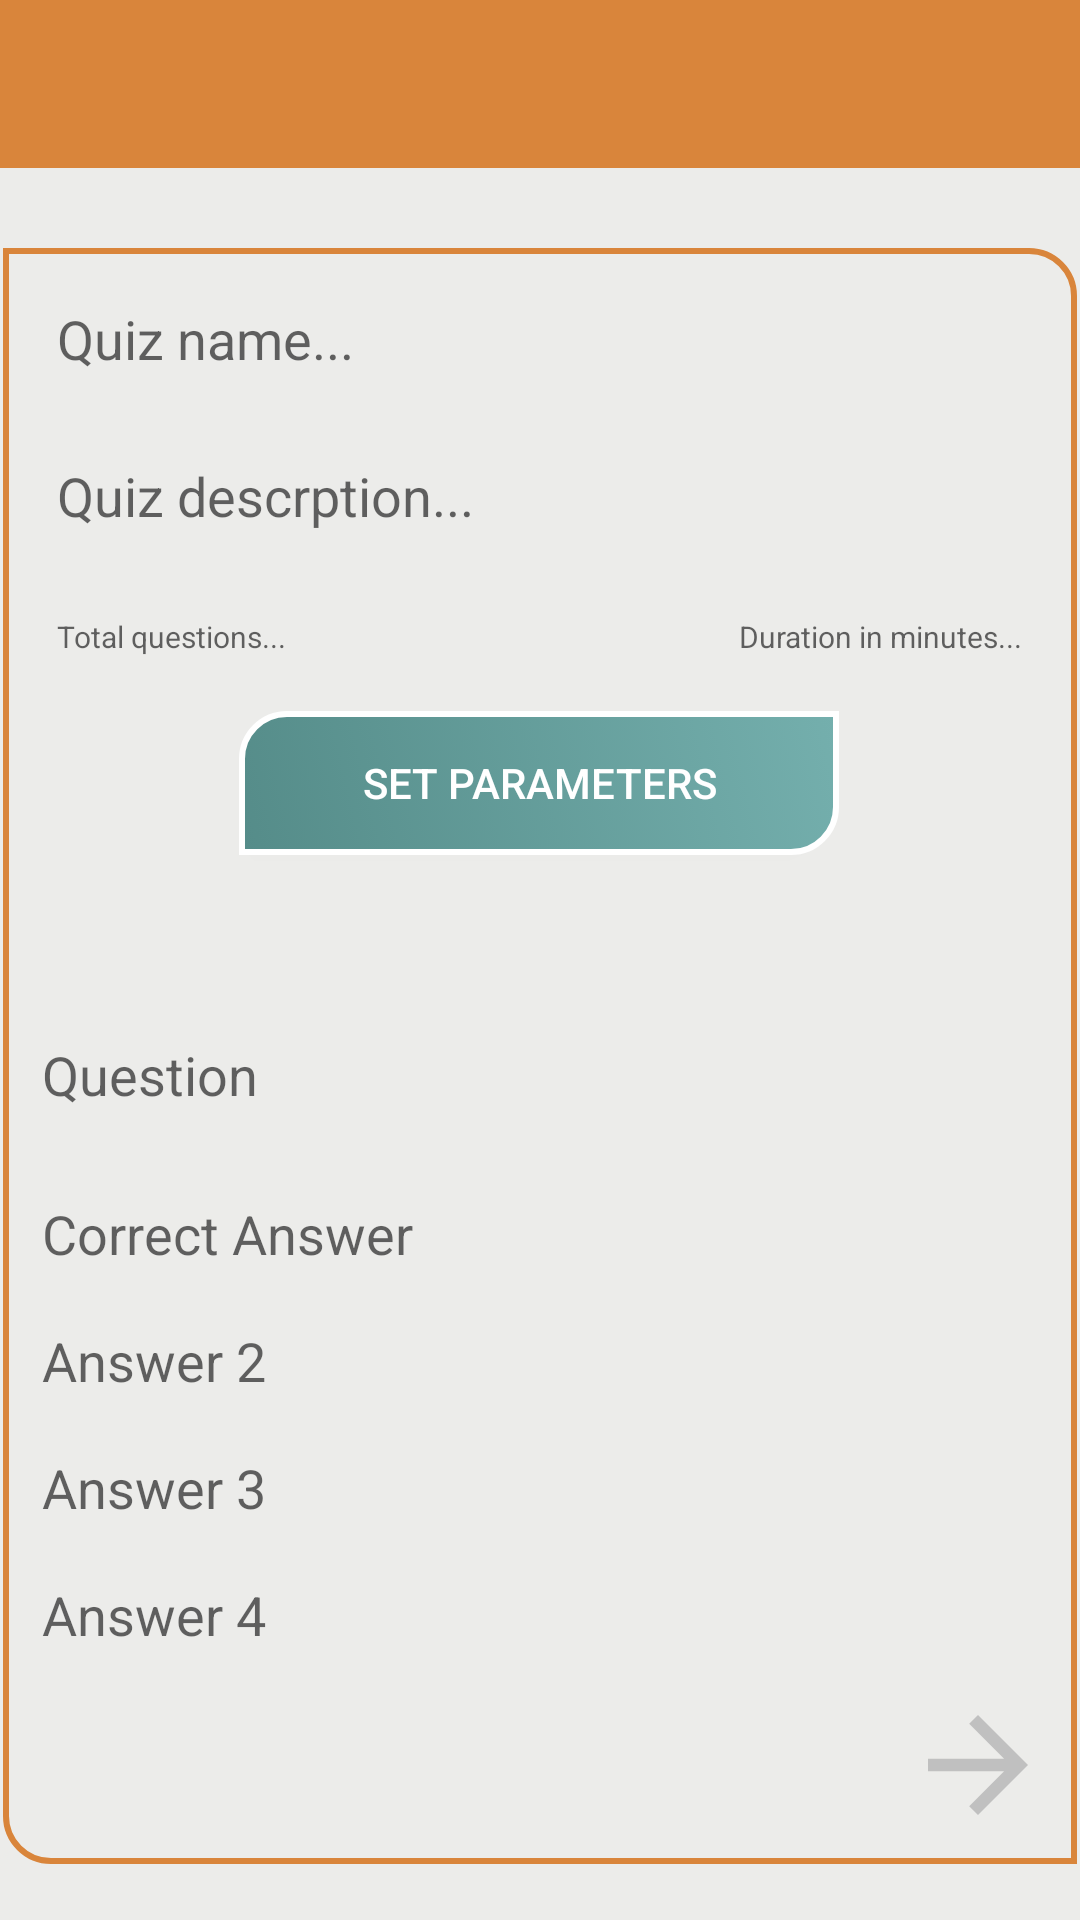

Where to tap for icons on this 1080 × 1920 app screen, as (x=x, y=y):
next question: (x=977, y=1765)
